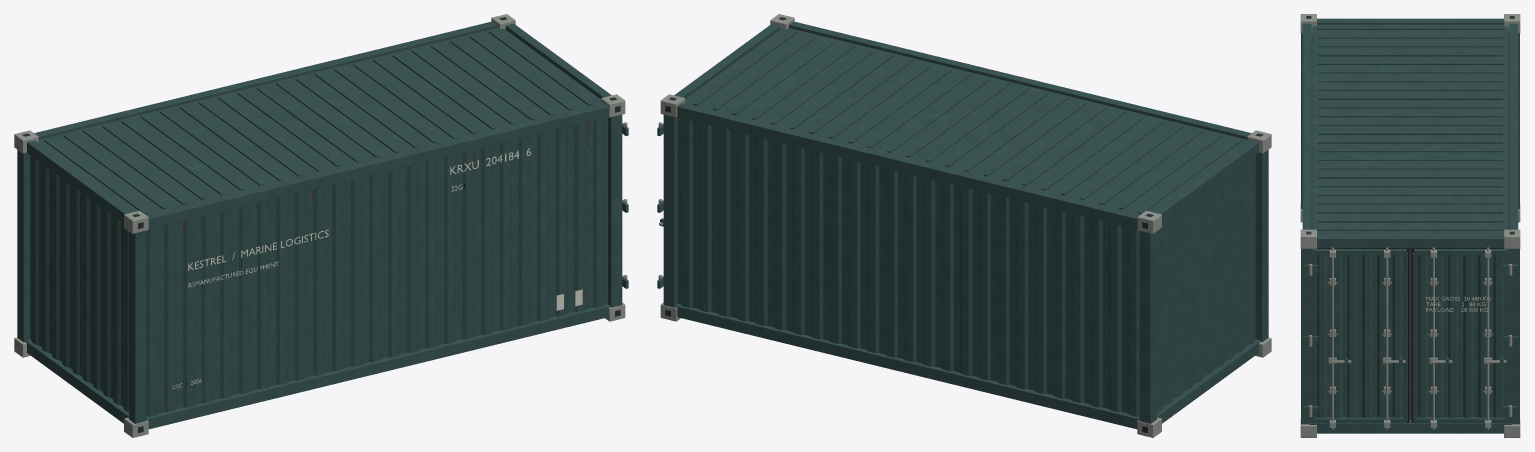
Rendered from CargoContainer.glb.
3 views of the same model, side by side, from view 1: azimuth 30°, elevation 25°; view 2: azimuth 150°, elevation 25°; view 3: azimuth 270°, elevation 25° (orthographic). The views are drawn at different scales.
Visible parts, largest first — view 1: CargoContainer_Export; view 2: CargoContainer_Export; view 3: CargoContainer_Export.
Part boxes in pixels (<box>): CargoContainer_Export: <box>14,14,628,437</box>; CargoContainer_Export: <box>657,14,1271,437</box>; CargoContainer_Export: <box>1300,14,1520,437</box>.
Size of the model in its own units: 6.24 by 2.58 by 2.56.
Materials: 1 (1 with a texture image).
